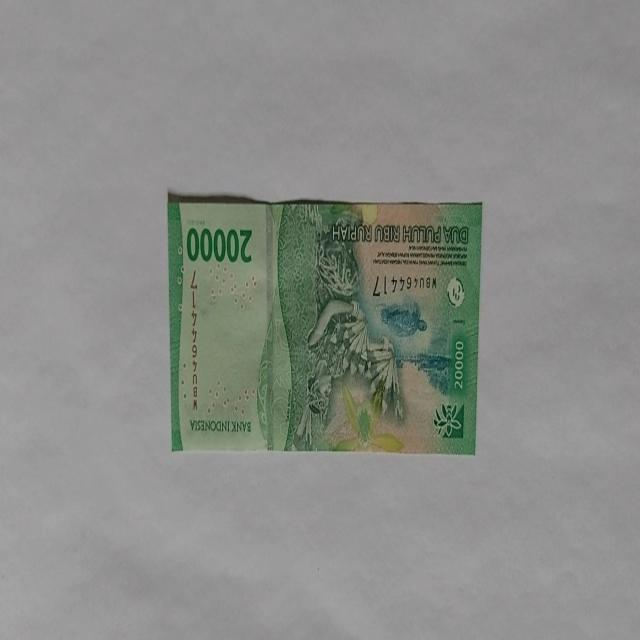dua puluh ribu rupiah: (168, 194, 482, 456), (291, 217, 404, 450)
